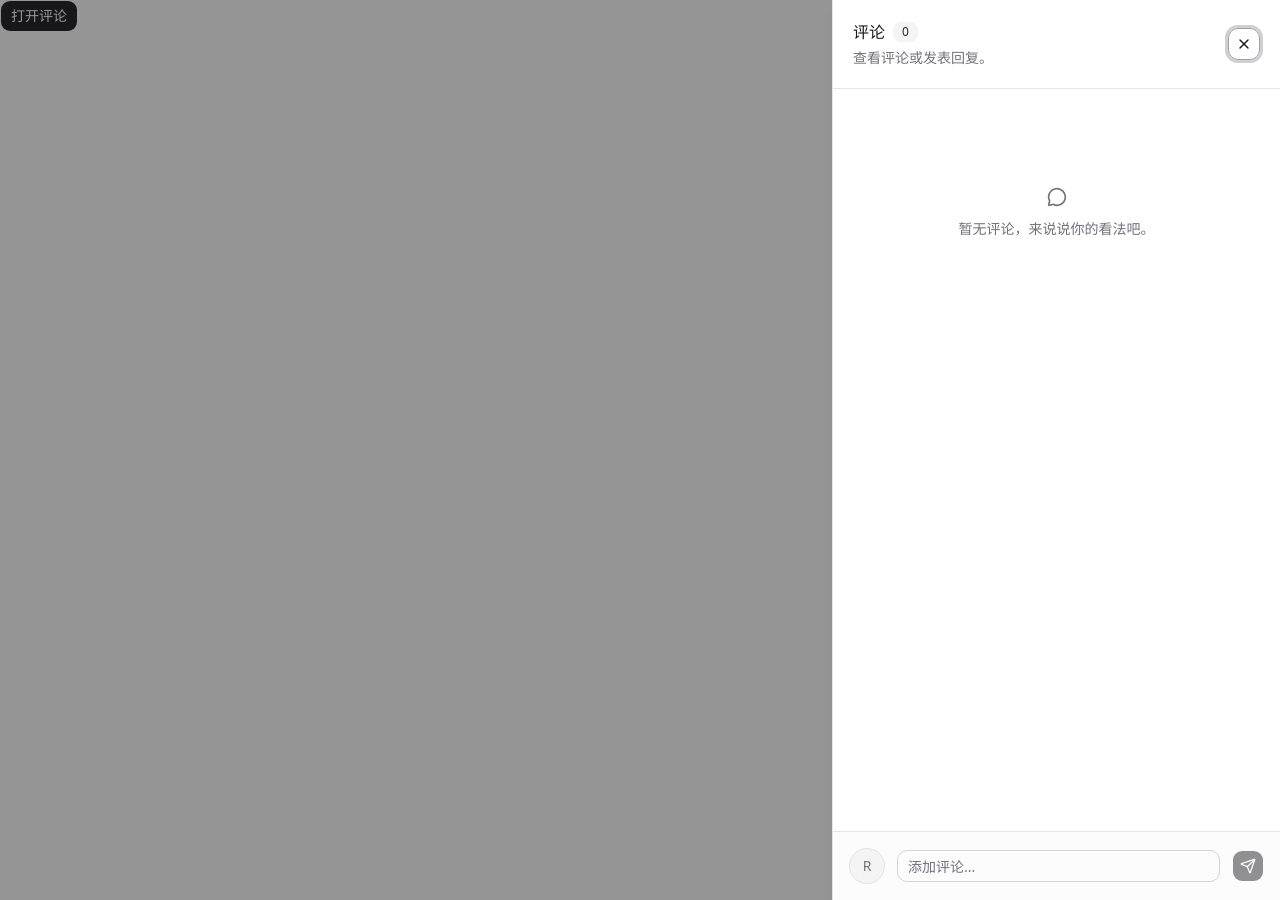
Test case: comment sheet contains focus, submits a draft and restores focus on Escape
Earlier steps of the test are not shown.
Press Tab
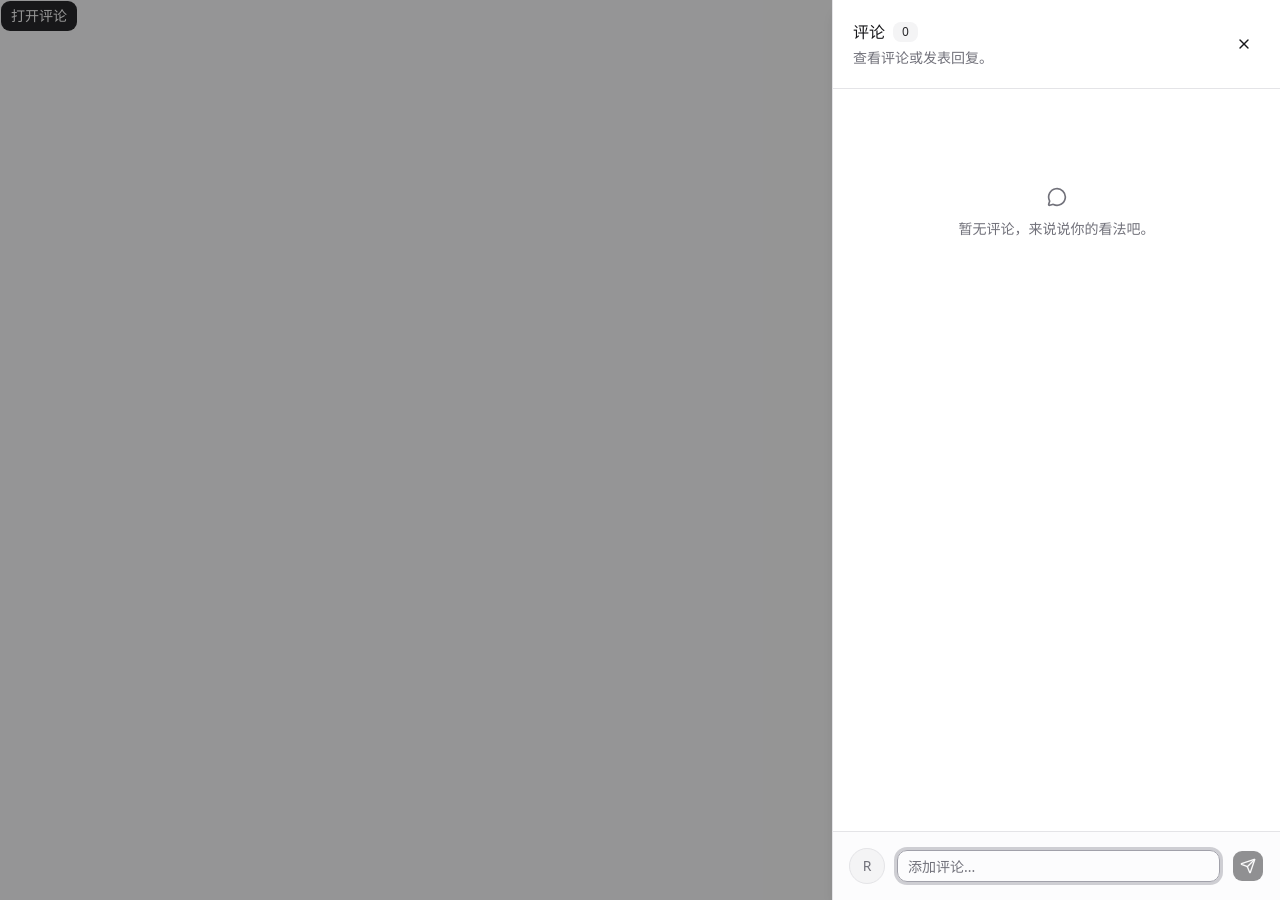
Press Tab
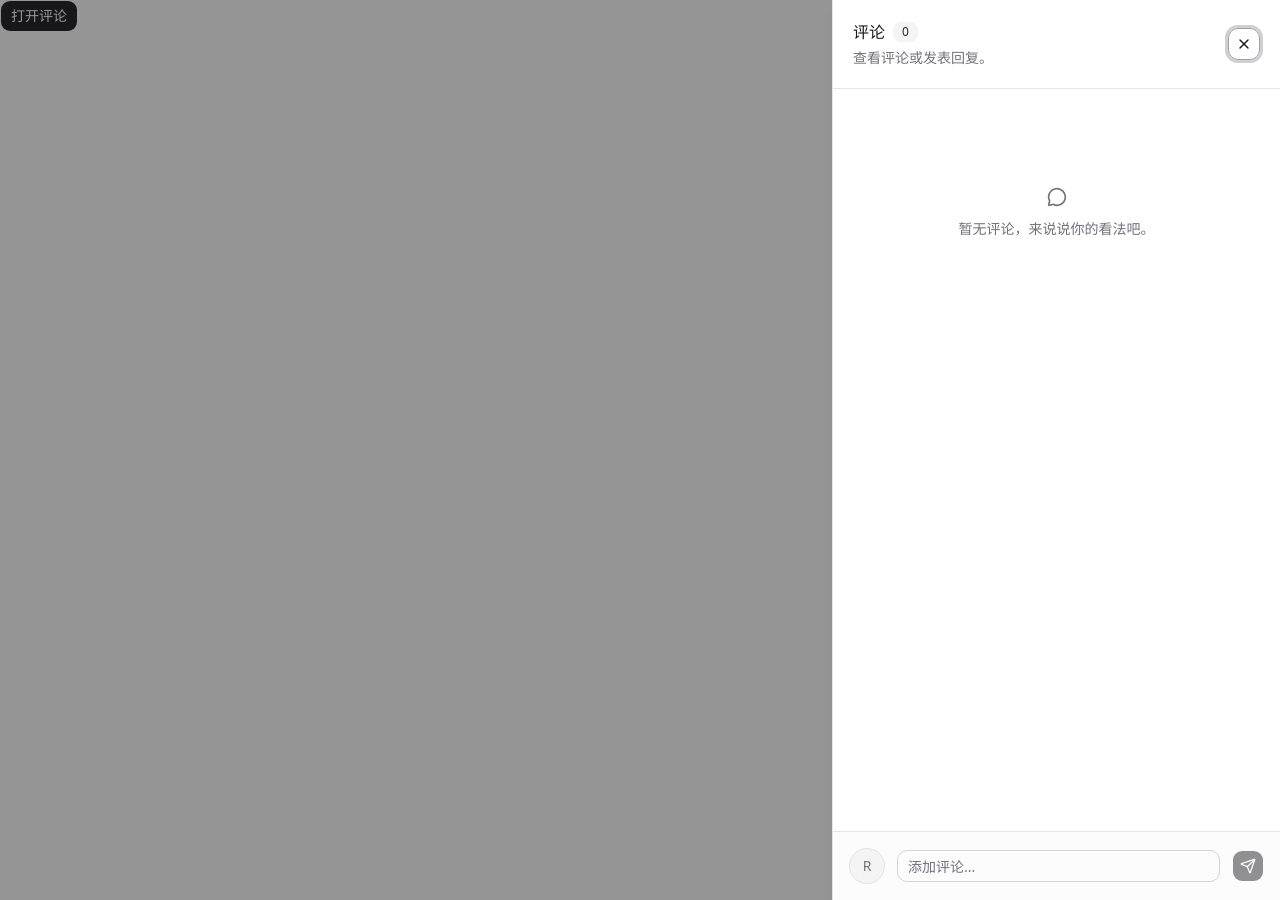
Press Tab
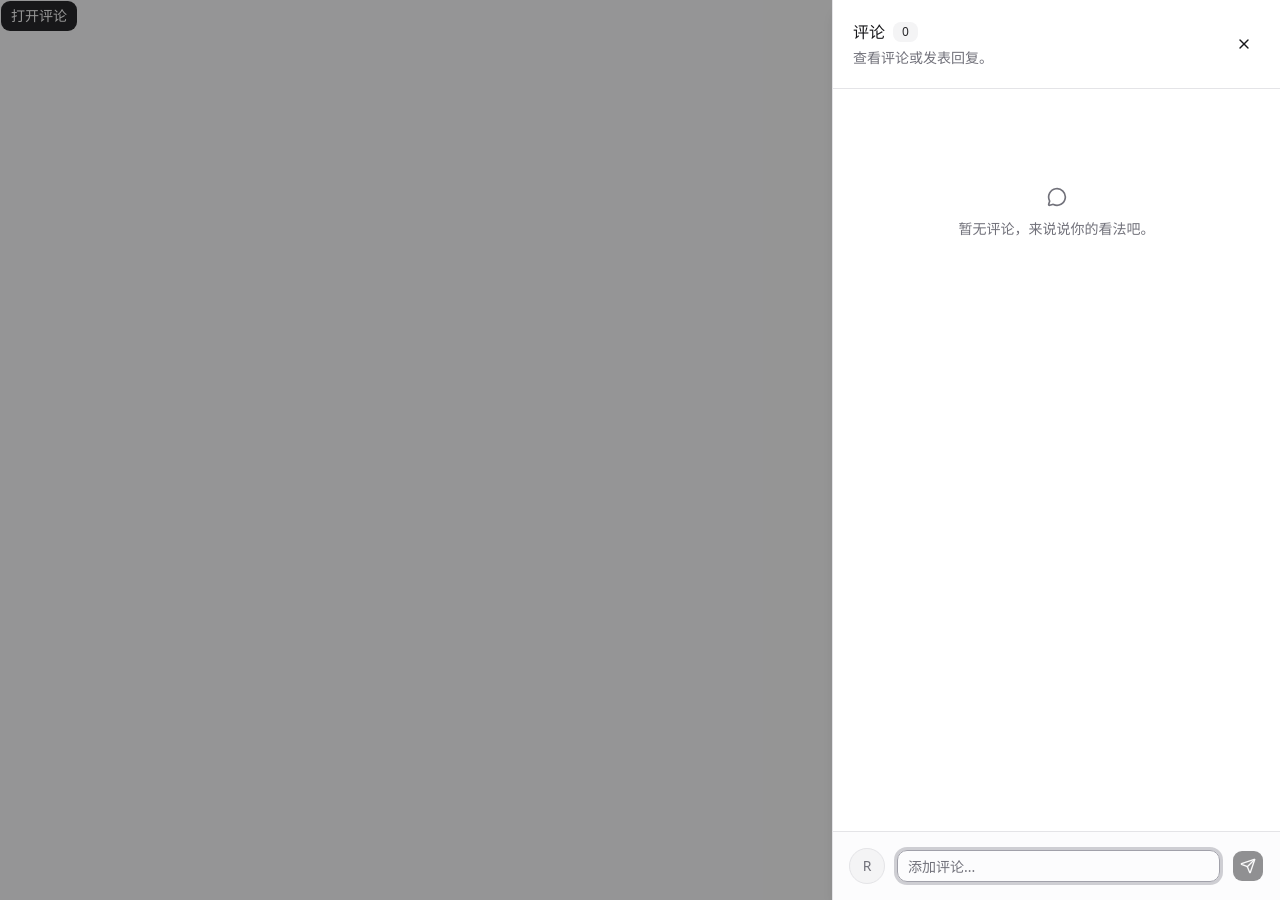
Type "喜欢这个视频" into the field named "评论内容" at (1058, 866), box [897,850,1220,882]
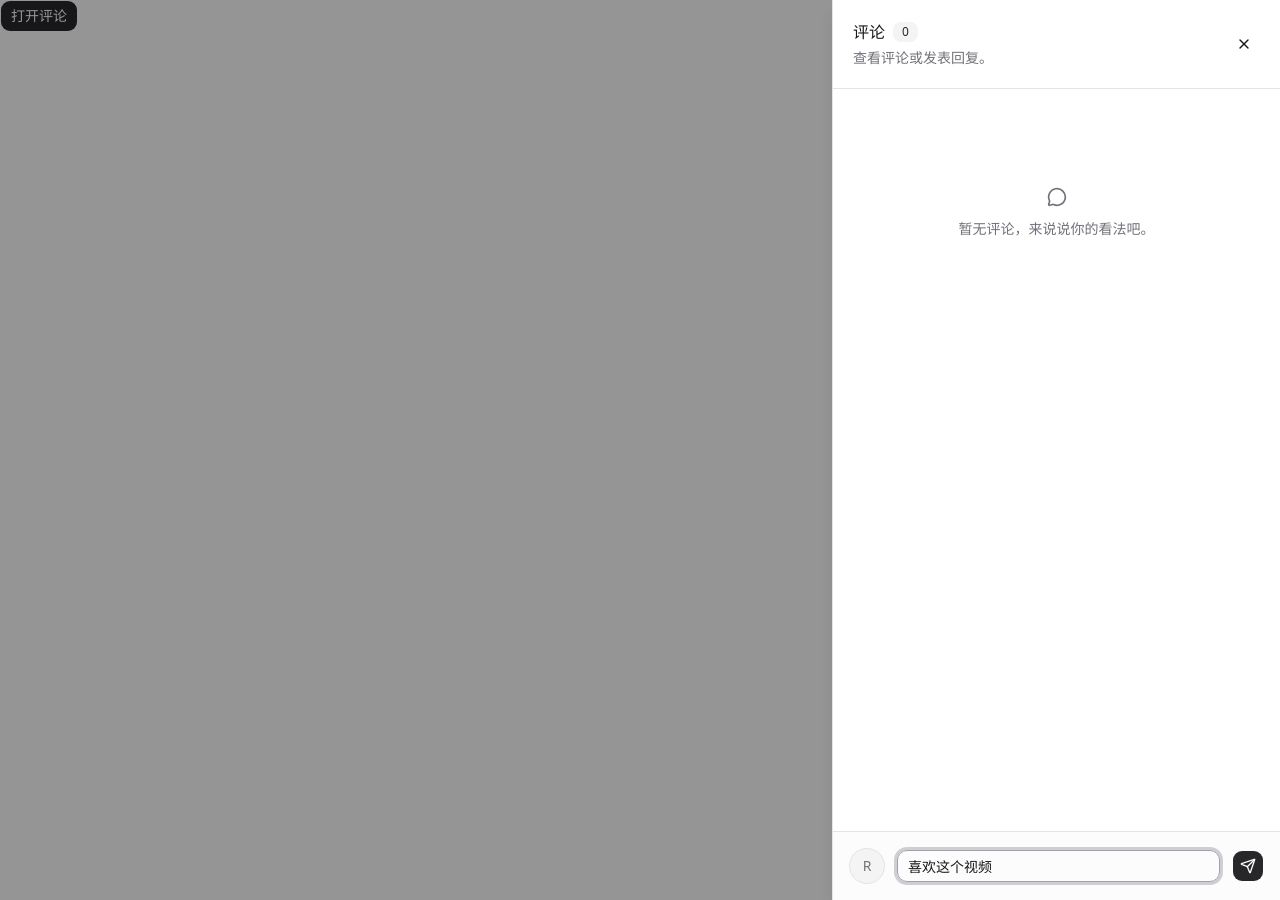
Click the button named "发送评论" at (1248, 866), box [1232,850,1264,882]
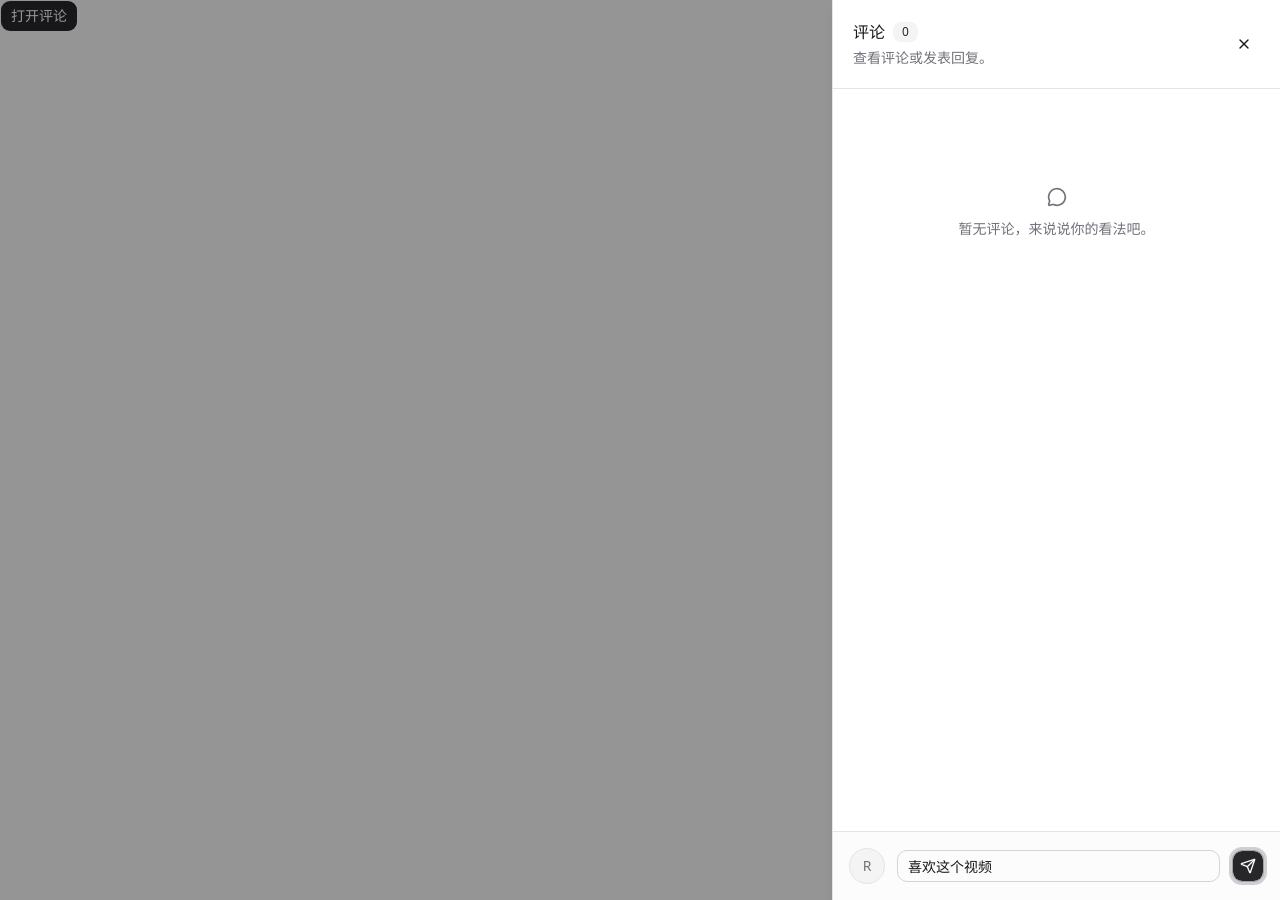
Press Escape
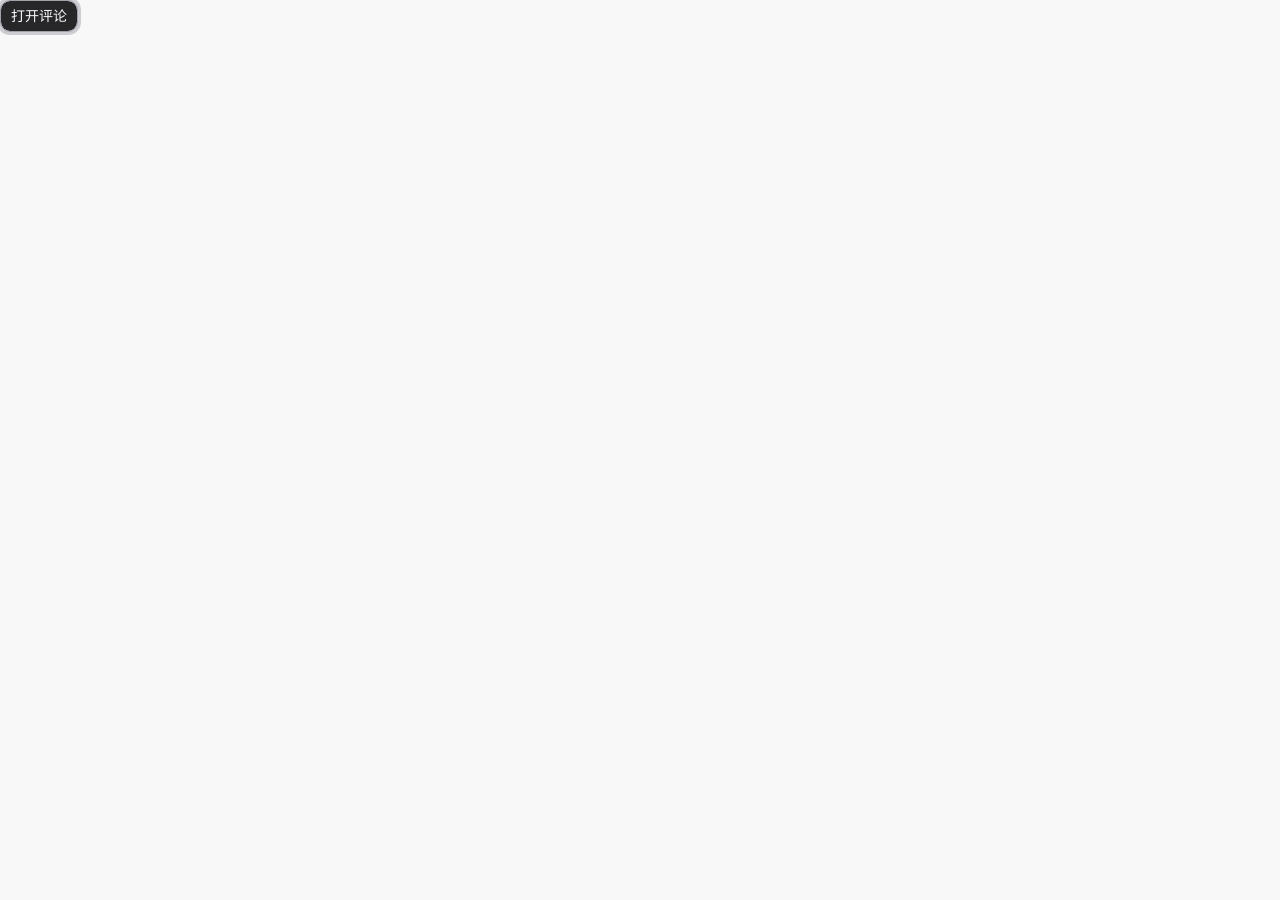
Now the dialog is gone
